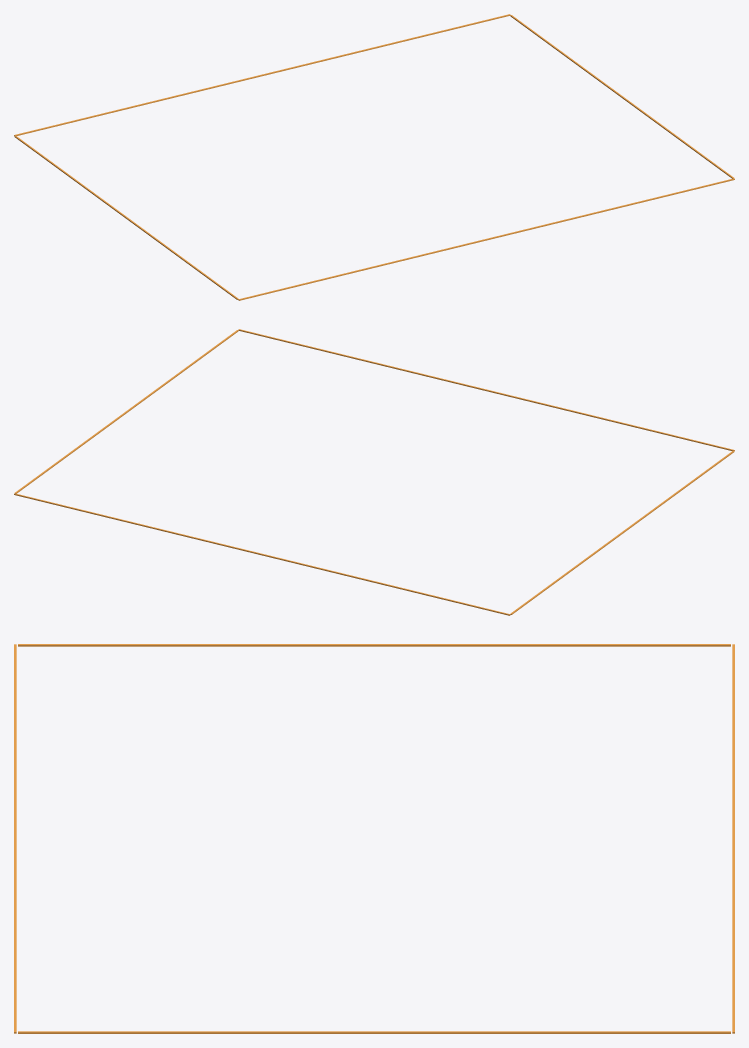
Rendered from 02_PS_Studio_FloorPerimeterLighting.fbx.
The picture shows the model from 3 angles, top to bottom: view 1: azimuth 30°, elevation 25°; view 2: azimuth 150°, elevation 25°; view 3: azimuth 270°, elevation 25°; orthographic projection. The views are drawn at different scales.
Visible parts, largest first — view 1: PS_Studio_FloorPerimeterLighting; view 2: PS_Studio_FloorPerimeterLighting; view 3: PS_Studio_FloorPerimeterLighting.
Boxes of the visible parts, box(x1,y1,x2,y2) form: PS_Studio_FloorPerimeterLighting: box(14, 14, 734, 300); PS_Studio_FloorPerimeterLighting: box(14, 329, 734, 615); PS_Studio_FloorPerimeterLighting: box(14, 644, 734, 1033).
Size of the model in its own units: 1739 by 3.5 by 1365.
